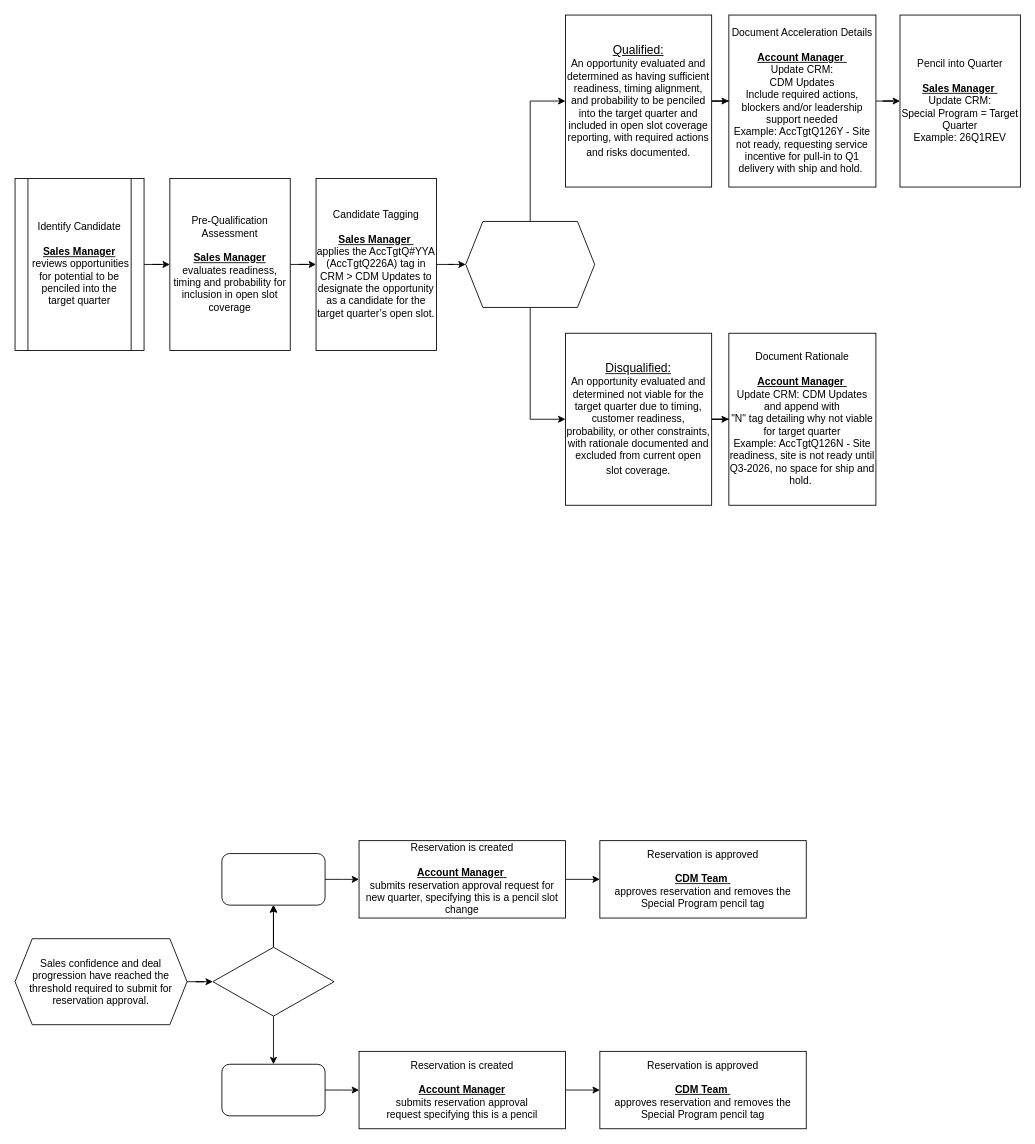
The diagram is 1035 pixels wide and 1144 high, and some of its shapes have lost their labels. The box of each missing label's shape, as (x1, y1, x2, y2) in pixels:
Account Manager Qualifies the candidate: (465, 221, 595, 307)
Is this Opportunity already slotted?: (212, 946, 334, 1016)
No: (221, 1063, 325, 1116)
Yes (Different Quarter): (221, 853, 325, 905)
